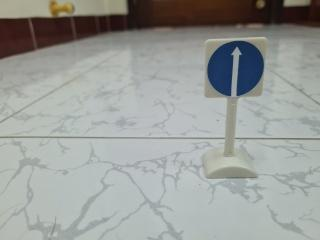straight: (206, 38, 266, 98)
